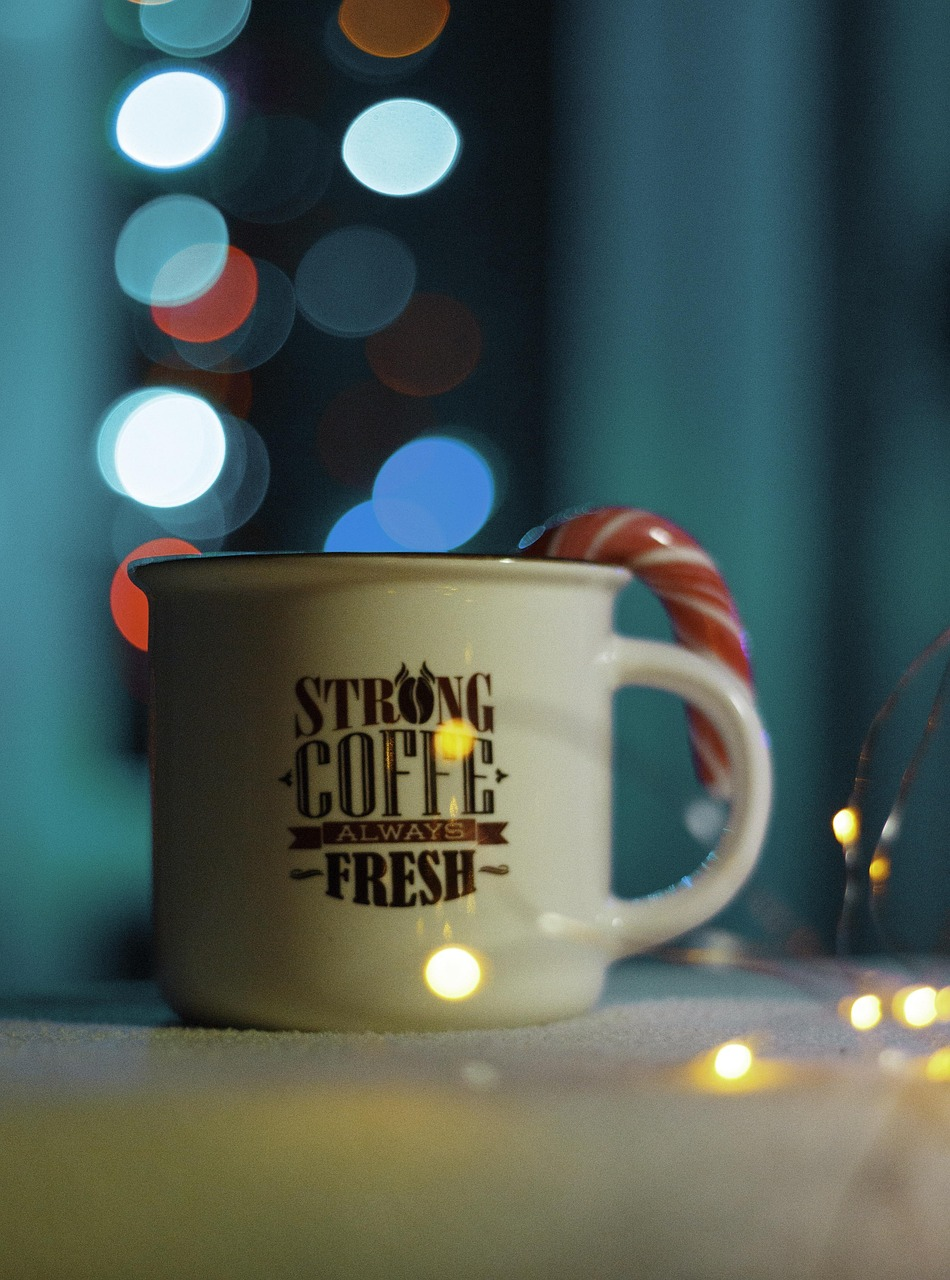mug: (124, 497, 806, 1044)
